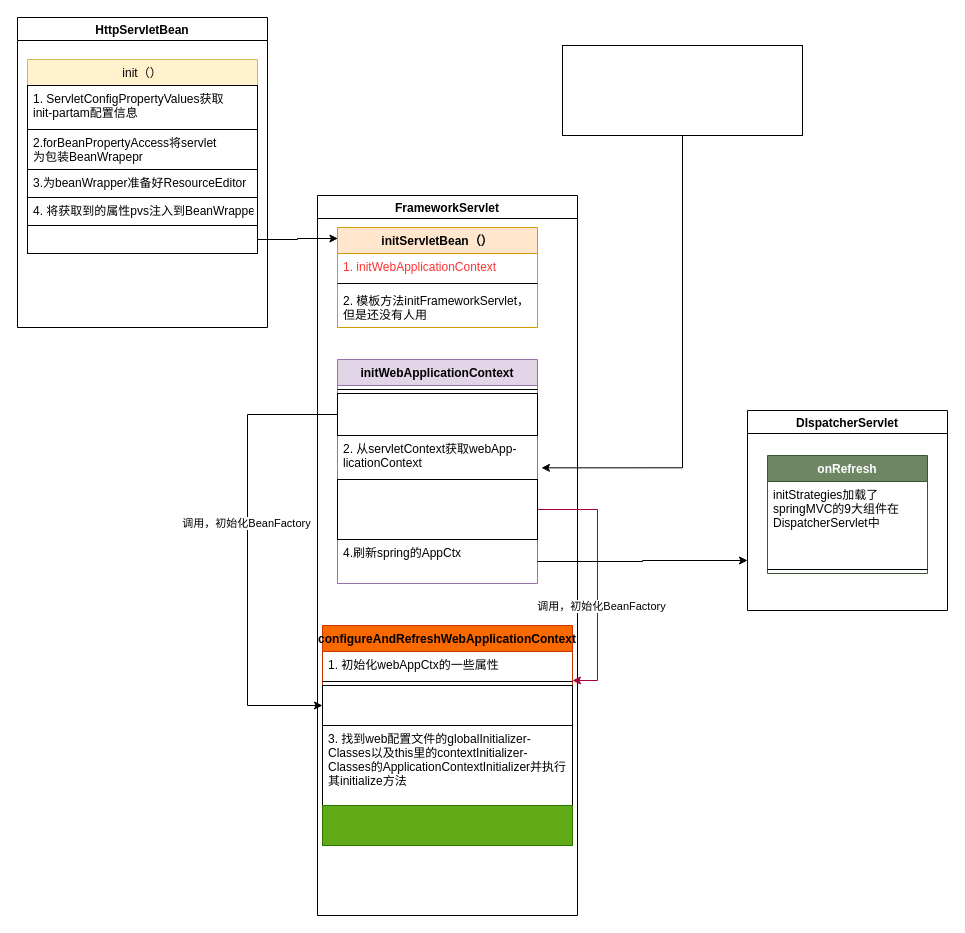
Image size: 965x933. Some labels were removed from this diagram. Each missing label, with the centre of its shape:
1. 从构造函数里通过spring自动注入 获取webAppCtx: point (437, 414)
2. postProcessWebApplicationContext模 板方法: point (447, 705)
3. 获取不到就自己通过 createWebApplicationContext 创建一个webAppCtx: point (437, 509)
4. 初始化spring容器Abstractapplication- Context#refresh: point (447, 825)
5. 模板方法initServletBean: point (142, 239)
contextLoaderListener在执行 initWebApplicationContext时就初始化过容器 了: point (682, 90)
